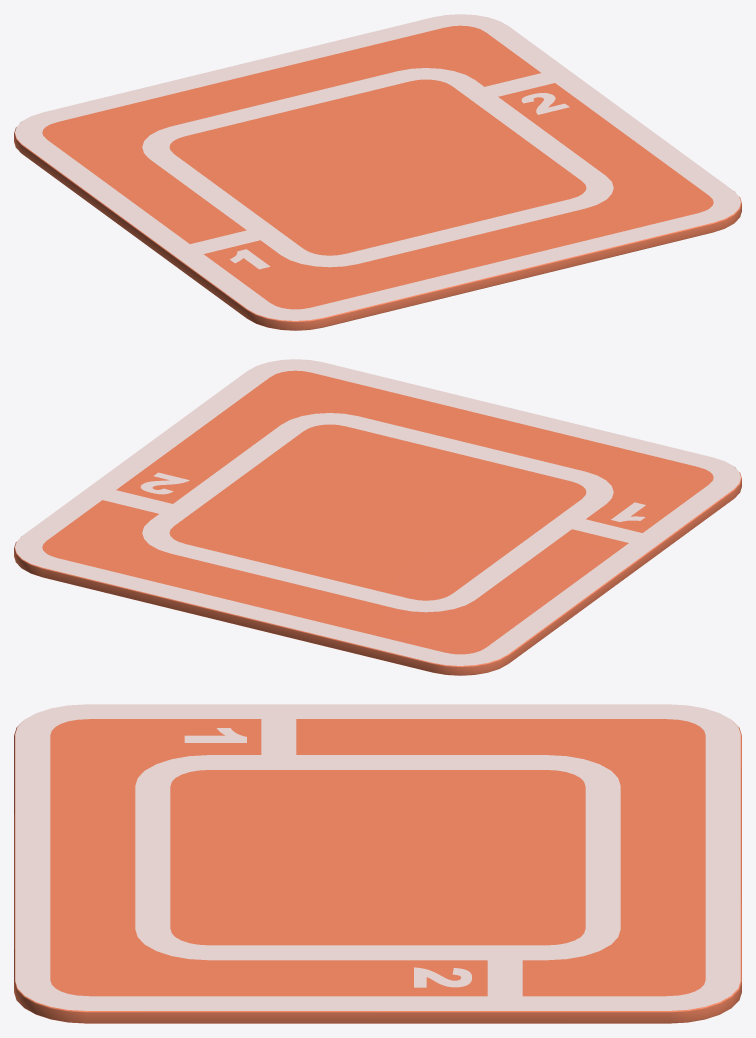
The model's file is City_18_Stadium_1.glb.
3 views of the same model, one above another, from view 1: azimuth 30°, elevation 25°; view 2: azimuth 150°, elevation 25°; view 3: azimuth 270°, elevation 25° (orthographic). The views are drawn at different scales.
Parts seen in each view (by area): view 1: City_18_Stadium_1; view 2: City_18_Stadium_1; view 3: City_18_Stadium_1.
Part boxes in pixels (left/top/right/bottom): City_18_Stadium_1: left=14, top=14, right=741, bottom=330; City_18_Stadium_1: left=14, top=359, right=741, bottom=675; City_18_Stadium_1: left=14, top=704, right=741, bottom=1023.
Size of the model in its own units: 7.28 by 0.1399 by 7.28.
1 material, 1 textured.
